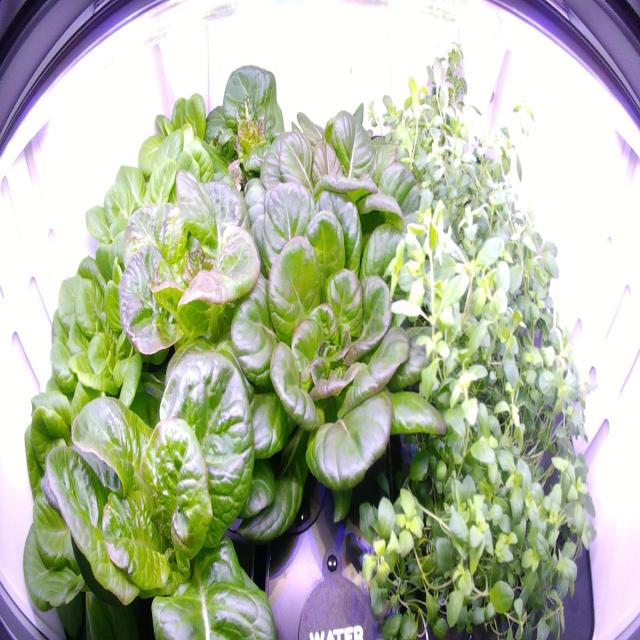Ready: (193, 180, 458, 520), (20, 324, 280, 637), (16, 368, 182, 638), (110, 156, 284, 387), (243, 99, 426, 315), (34, 225, 184, 446), (80, 150, 209, 320), (194, 56, 298, 214), (131, 86, 234, 230)
